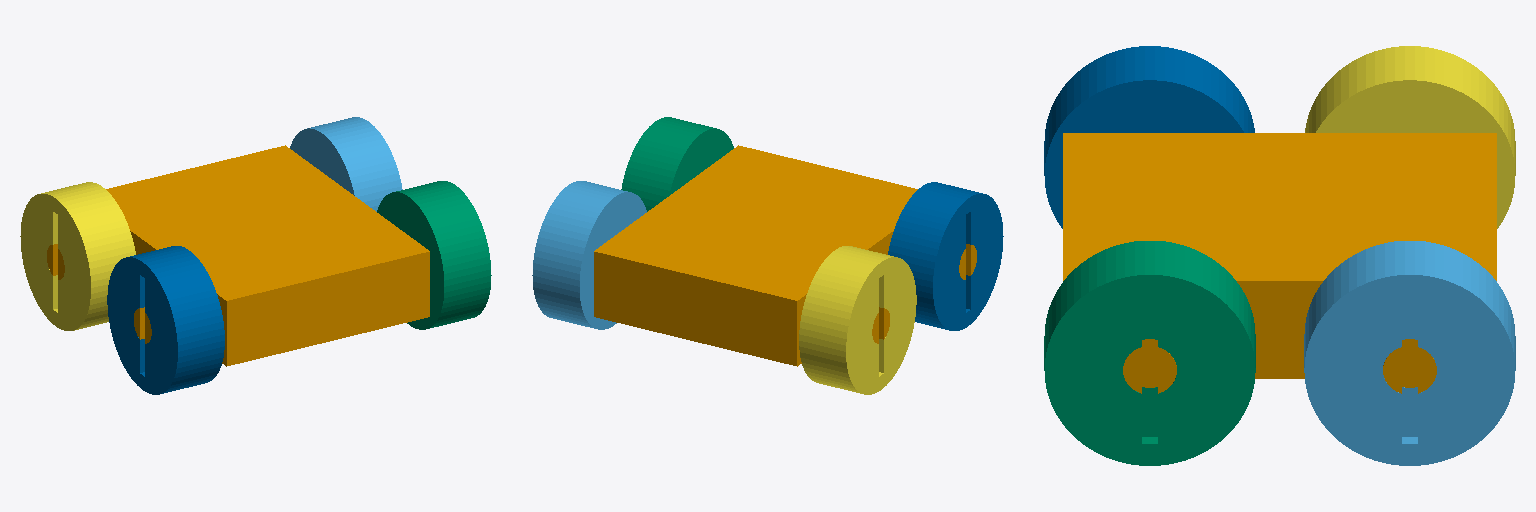
robot.urdf — SimpleZumo_base:
<?xml version="1.0" ?>
<robot name="SimpleZumo_base">

<material name="silver">
  <color rgba="0.700 0.700 0.700 1.000"/>
</material>
<material name="blue">
  <color rgba="0.1 0.0 0.500 1.000"/>
</material>
<material name="black">
  <color rgba="0.0 0.0 0.0 1.000"/>
</material>

<link name="base_link">
  <inertial>
    <origin xyz="0.0325 0.04000000000000001 0.01" rpy="0 0 0"/>
    <mass value="1"/> <!--0.856774610586674-->
    <inertia ixx="0.000486397346676534" iyy="0.0003828897765193035" izz="0.0008143659955764482" ixy="8.322335875998732e-16" iyz="0.0" ixz="5.421010862427522e-20"/>
  </inertial>
  <visual>
    <origin xyz="0 0 0" rpy="0 0 0"/>
    <geometry>
      <mesh filename="meshes/base_link.stl" scale="0.001 0.001 0.001"/>
    </geometry>
    <material name="blue"/>
    <material/>
  </visual>
  <collision>
    <origin xyz="0 0 0" rpy="0 0 0"/>
    <geometry>
      <mesh filename="meshes/base_link.stl" scale="0.001 0.001 0.001"/>
    </geometry>
  </collision>
</link>

<link name="Wheel31">
  <inertial>
    <origin xyz="-0.007565715755765867 0.0 0.0" rpy="0 0 0"/>
    <mass value="0.12999123516761424"/>
    <inertia ixx="2.6473549816381932e-05" iyy="1.55717907625335e-05" izz="1.572405278902028e-05" ixy="1.0842021724855044e-19" iyz="0.0" ixz="1.3552527156068805e-20"/>
  </inertial>
  <visual>
    <origin xyz="-0.0825 -0.064 -0.01" rpy="0 0 0"/>
    <geometry>
      <mesh filename="meshes/Wheel31.stl" scale="0.001 0.001 0.001"/>
    </geometry>
    <material name="black"/>
    <material/>
  </visual>
  <collision>
    <origin xyz="-0.0825 -0.064 -0.01" rpy="0 0 0"/>

    <geometry>
      <mesh filename="meshes/Wheel31.stl" scale="0.001 0.001 0.001"/>
    </geometry>
  </collision>
  
</link>

<link name="Wheel21">
  <inertial>
    <origin xyz="-0.007565715755765853 -3.469446951953614e-18 0.0" rpy="0 0 0"/>
    <mass value="0.1299912351676142"/>
    <inertia ixx="2.6473549816381885e-05" iyy="1.5571790762533284e-05" izz="1.5724052789020063e-05" ixy="5.421010862427522e-20" iyz="6.776263578034403e-21" ixz="1.3552527156068805e-20"/>
  </inertial>
  <visual>
    <origin xyz="-0.0825 -0.016 -0.01" rpy="0 0 0"/>
    <geometry>
      <mesh filename="meshes/Wheel21.stl" scale="0.001 0.001 0.001"/>
    </geometry>
    <material name="black"/>
    <material/>
  </visual>
  <collision>
    <origin xyz="-0.0825 -0.016 -0.01" rpy="0 0 0"/>

    <geometry>
      <mesh filename="meshes/Wheel21.stl" scale="0.001 0.001 0.001"/>
    </geometry>
  </collision>
  
</link>

<link name="Wheel1">
  <inertial>
    <origin xyz="0.007565715755765867 3.7192471324942744e-14 1.734723475976807e-18" rpy="0 0 0"/>
    <mass value="0.12999123516761382"/>
    <inertia ixx="2.647354982384688e-05" iyy="1.5571790773730704e-05" izz="1.572405278528813e-05" ixy="3.2526065174565133e-19" iyz="1.3552527156068805e-20" ixz="0.0"/>
  </inertial>
  <visual>
    <origin xyz="0.0175 -0.064 -0.01" rpy="0 0 0"/>
    
    <geometry>
      <mesh filename="meshes/Wheel1.stl" scale="0.001 0.001 0.001"/>
    </geometry>
    <material name="black"/>
    <material/>
  </visual>
  <collision>
    <origin xyz="0.0175 -0.064 -0.01" rpy="0 0 0"/>

    <geometry>
      <mesh filename="meshes/Wheel1.stl" scale="0.001 0.001 0.001"/>
    </geometry>
  </collision>

</link>

<link name="Wheel41">
  <inertial>
    <origin xyz="0.007565715755765867 3.7192471324942744e-14 -1.734723475976807e-18" rpy="0 0 0"/>
    <mass value="0.12999123516761382"/>
    <inertia ixx="2.647354982384665e-05" iyy="1.5571790773730738e-05" izz="1.5724052785287948e-05" ixy="3.2187251995663413e-19" iyz="1.6940658945086007e-20" ixz="-1.6940658945086007e-21"/>
  </inertial>
  <visual>
    <origin xyz="0.0175 -0.016 -0.01" rpy="0 0 0"/>
    <geometry>
      <mesh filename="meshes/Wheel41.stl" scale="0.001 0.001 0.001"/>
    </geometry>
    <material name="black"/>
    <material/>
  </visual>
  <collision>
    <origin xyz="0.0175 -0.016 -0.01" rpy="0 0 0"/>

    <geometry>
      <mesh filename="meshes/Wheel41.stl" scale="0.001 0.001 0.001"/>
    </geometry>
  </collision>
  
  
</link>

<joint name="Rev1" type="continuous">
  <origin xyz="0.0825 0.064 0.01" rpy="0 0 0"/>
  <parent link="base_link"/>
  <child link="Wheel31"/>
  <axis xyz="-1.0 0.0 0.0"/>
</joint>
<transmission name="Rev1_tran">
  <type>transmission_interface/SimpleTransmission</type>
  <joint name="Rev1">
    <hardwareInterface>PositionJointInterface</hardwareInterface>
  </joint>
  <actuator name="Rev1_actr">
    <hardwareInterface>PositionJointInterface</hardwareInterface>
    <mechanicalReduction>1</mechanicalReduction>
  </actuator>
</transmission>

<joint name="Rev2" type="continuous">
  <origin xyz="0.0825 0.016 0.01" rpy="0 0 0"/>
  <parent link="base_link"/>
  <child link="Wheel21"/>
  <axis xyz="-1.0 0.0 0.0"/>
</joint>
<transmission name="Rev2_tran">
  <type>transmission_interface/SimpleTransmission</type>
  <joint name="Rev2">
    <hardwareInterface>PositionJointInterface</hardwareInterface>
  </joint>
  <actuator name="Rev2_actr">
    <hardwareInterface>PositionJointInterface</hardwareInterface>
    <mechanicalReduction>1</mechanicalReduction>
  </actuator>
</transmission>

<joint name="Rev3" type="continuous">
  <origin xyz="-0.0175 0.064 0.01" rpy="0 0 0"/>
  <parent link="base_link"/>
  <child link="Wheel1"/>
  <axis xyz="-1.0 0.0 0.0"/>
</joint>
<transmission name="Rev3_tran">
  <type>transmission_interface/SimpleTransmission</type>
  <joint name="Rev3">
    <hardwareInterface>PositionJointInterface</hardwareInterface>
  </joint>
  <actuator name="Rev3_actr">
    <hardwareInterface>PositionJointInterface</hardwareInterface>
    <mechanicalReduction>1</mechanicalReduction>
  </actuator>
</transmission>

<joint name="Rev4" type="continuous">
  <origin xyz="-0.0175 0.016 0.01" rpy="0 0 0"/>
  <parent link="base_link"/>
  <child link="Wheel41"/>
  <axis xyz="-1.0 0.0 0.0"/>
</joint>
<transmission name="Rev4_tran">
  <type>transmission_interface/SimpleTransmission</type>
  <joint name="Rev4">
    <hardwareInterface>PositionJointInterface</hardwareInterface>
  </joint>
  <actuator name="Rev4_actr">
    <hardwareInterface>PositionJointInterface</hardwareInterface>
    <mechanicalReduction>1</mechanicalReduction>
  </actuator>
</transmission>

</robot>

--- What the picture shows (computed from the rendered views, not written in the file) ---
The picture shows the robot from 3 angles, left to right: view 1: azimuth 30°, elevation 25°; view 2: azimuth 150°, elevation 25°; view 3: azimuth 270°, elevation 25°; orthographic projection.
Model SimpleZumo_base with 5 links and 4 joints (4 continuous), rooted at base_link, posed all joints at 0.
Visible links, largest first — view 1: base_link, Wheel41, Wheel1, Wheel21, Wheel31; view 2: base_link, Wheel1, Wheel41, Wheel31, Wheel21; view 3: base_link, Wheel31, Wheel21, Wheel1, Wheel41.
Link boxes in pixels (<box>): base_link: <box>47,145,429,366</box>; Wheel41: <box>107,246,224,394</box>; Wheel1: <box>20,182,135,330</box>; Wheel21: <box>377,181,491,329</box>; Wheel31: <box>290,117,402,211</box>; base_link: <box>594,145,976,366</box>; Wheel1: <box>799,246,916,394</box>; Wheel41: <box>888,182,1003,330</box>; Wheel31: <box>532,181,646,329</box>; Wheel21: <box>621,117,733,211</box>; base_link: <box>1063,133,1496,393</box>; Wheel31: <box>1304,241,1515,465</box>; Wheel21: <box>1044,241,1255,465</box>; Wheel1: <box>1305,46,1515,228</box>; Wheel41: <box>1044,46,1254,228</box>.
Bounding box of the posed robot: 0.1 × 0.087 × 0.039 m (x, y, z).
Meshes: 5 distinct files referenced, 5 mesh visuals loaded (5 binary STL).